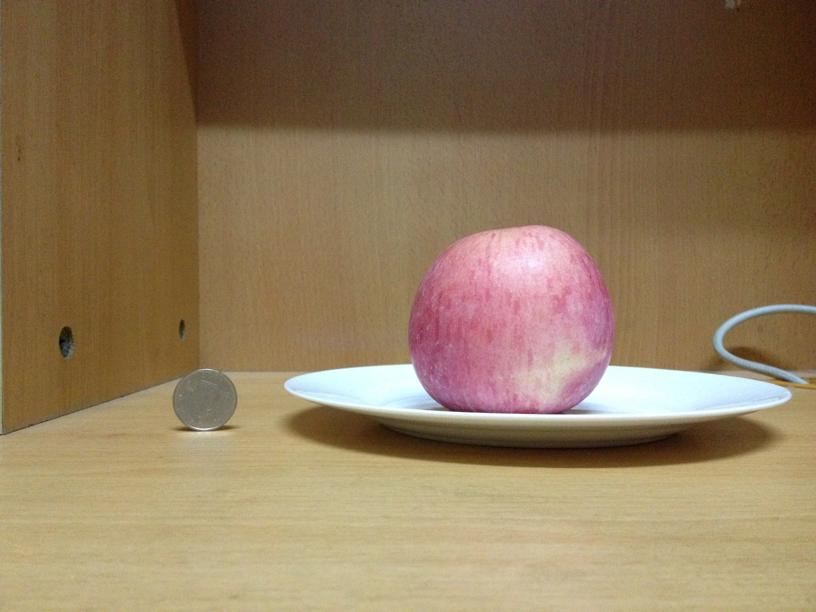apple: (409, 222, 612, 412)
coin: (172, 367, 236, 430)
